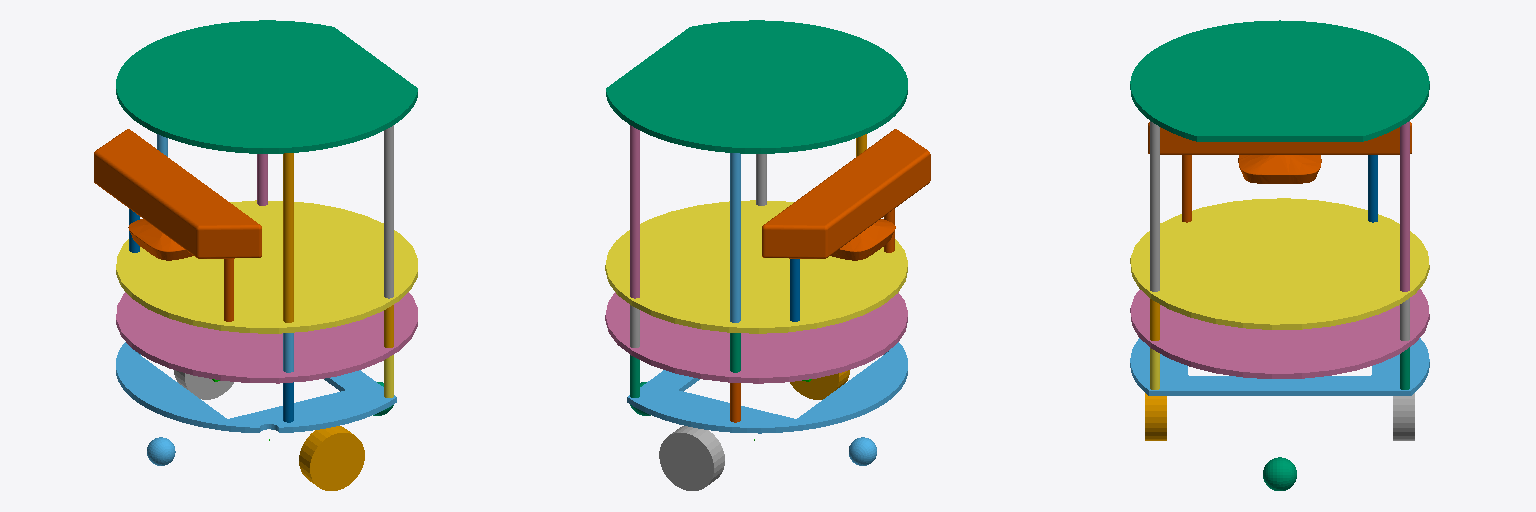
--- Render facts (derived) ---
3 views of the same robot in one strip: view 1: azimuth 30°, elevation 25°; view 2: azimuth 150°, elevation 25°; view 3: azimuth 270°, elevation 25° (orthographic).
Robot: turtlebot — 40 links, 39 joints (2 continuous, 37 fixed); root link base_footprint; default pose: every joint at zero.
Visible links, largest first — view 1: plate_3_link, plate_2_link, plate_1_link, camera_link, plate_0_link, right_wheel_link, standoff_8in_2_link, standoff_8in_1_link, left_wheel_link, rear_wheel_link, standoff_kinect_1_link, standoff_8in_0_link; view 2: plate_3_link, plate_2_link, plate_1_link, camera_link, plate_0_link, left_wheel_link, standoff_8in_3_link, standoff_8in_0_link, right_wheel_link, rear_wheel_link, standoff_kinect_0_link, standoff_8in_1_link; view 3: plate_3_link, plate_2_link, plate_1_link, plate_0_link, camera_link, standoff_8in_0_link, standoff_8in_1_link, left_wheel_link, right_wheel_link, front_wheel_link, standoff_kinect_0_link, standoff_kinect_1_link.
Boxes of the visible links, x1,y1,x2,y2 form: plate_3_link: (116,20,417,153); plate_2_link: (116,200,417,333); plate_1_link: (116,292,417,383); camera_link: (94,129,261,260); plate_0_link: (116,342,396,432); right_wheel_link: (299,426,364,490); standoff_8in_2_link: (283,153,293,322); standoff_8in_1_link: (384,125,393,298); left_wheel_link: (174,370,233,399); rear_wheel_link: (147,437,175,465); standoff_kinect_1_link: (224,259,233,321); standoff_8in_0_link: (257,154,267,205); plate_3_link: (606,20,907,153); plate_2_link: (605,200,907,333); plate_1_link: (605,292,907,383); camera_link: (762,129,930,260); plate_0_link: (627,342,907,433); left_wheel_link: (659,426,724,490); standoff_8in_3_link: (730,153,740,322); standoff_8in_0_link: (630,125,639,298); right_wheel_link: (790,370,849,399); rear_wheel_link: (849,437,876,465); standoff_kinect_0_link: (790,259,799,321); standoff_8in_1_link: (756,154,766,205); plate_3_link: (1130,20,1429,141); plate_2_link: (1130,198,1429,329); plate_1_link: (1130,289,1429,378); plate_0_link: (1130,338,1429,395); camera_link: (1148,122,1411,183); standoff_8in_0_link: (1400,121,1409,291); standoff_8in_1_link: (1150,121,1159,291); left_wheel_link: (1393,393,1414,440); right_wheel_link: (1145,393,1166,440); front_wheel_link: (1263,457,1296,490); standoff_kinect_0_link: (1368,155,1377,222); standoff_kinect_1_link: (1182,155,1191,222).
Size in the robot's own frame: 0.3147 by 0.3148 by 0.4097 metres.
23 mesh visuals loaded from 9 distinct referenced files (8 Collada DAE); not drawn: 1 (reference not matched to a file when rendering).

The robot description file, URDF, robot "turtlebot":
<?xml version="1.0" ?>
<!-- =================================================================================== -->
<!-- |    This document was autogenerated by xacro from create_circles_kinect.urdf.xacro | -->
<!-- |    EDITING THIS FILE BY HAND IS NOT RECOMMENDED                                 | -->
<!-- =================================================================================== -->
<!--
    - Base      : create
    - Stacks    : circles
    - 3d Sensor : kinect
-->
<robot name="turtlebot" xmlns:xacro="http://ros.org/wiki/xacro">
  <!-- 
    These properties must be observed by any machine
    that wants to be defined as a turtlebot. Refer
    to the REP for more details.
    
    http://www.ros.org/reps/rep-0119.html
   -->
  <!-- 
    These properties must be observed by any machine
    that wants to be defined as a turtlebot. Refer
    to the REP for more details.
    
    http://www.ros.org/reps/rep-0119.html
   -->
  <material name="Green">
    <color rgba="0.0 0.8 0.0 1.0"/>
  </material>
  <!-- base_footprint is a fictitious link(frame) that is on the ground right below base_link origin, navigation stack depends on this frame -->
  <link name="base_footprint">
    <visual>
      <origin rpy="0 0 0" xyz="0 0 0"/>
      <geometry>
        <box size="0.001 0.001 0.001"/>
      </geometry>
      <material name="Green"/>
    </visual>
    <collision>
      <origin rpy="0 0 0" xyz="0 0 0.017"/>
      <geometry>
        <box size="0.001 0.001 0.001"/>
      </geometry>
    </collision>
  </link>
  <link name="base_link">
    <inertial>
      <mass value="2"/>
      <origin xyz="0 0 0.0"/>
      <inertia ixx="0.01" ixy="0.0" ixz="0.0" iyy="0.01" iyz="0.0" izz="0.5"/>
    </inertial>
    <visual>
      <origin rpy="0 0 0" xyz=" 0 0 0.0308"/>
      <geometry>
        <mesh filename="package://create_description/meshes/create_body.dae"/>
      </geometry>
    </visual>
    <collision>
      <origin rpy="0 0 0" xyz="0.0 0.0 0.0308"/>
      <geometry>
        <cylinder length="0.0611632" radius="0.16495"/>
      </geometry>
    </collision>
  </link>
  <link name="wall_sensor_link">
    <inertial>
      <mass value="0.01"/>
      <origin xyz="0 0 0"/>
      <inertia ixx="0.001" ixy="0.0" ixz="0.0" iyy="0.001" iyz="0.0" izz="0.001"/>
    </inertial>
  </link>
  <link name="left_cliff_sensor_link">
    <inertial>
      <mass value="0.01"/>
      <origin xyz="0 0 0"/>
      <inertia ixx="0.001" ixy="0.0" ixz="0.0" iyy="0.001" iyz="0.0" izz="0.001"/>
    </inertial>
  </link>
  <link name="right_cliff_sensor_link">
    <inertial>
      <mass value="0.01"/>
      <origin xyz="0 0 0"/>
      <inertia ixx="0.001" ixy="0.0" ixz="0.0" iyy="0.001" iyz="0.0" izz="0.001"/>
    </inertial>
  </link>
  <link name="leftfront_cliff_sensor_link">
    <inertial>
      <mass value="0.01"/>
      <origin xyz="0 0 0"/>
      <inertia ixx="1.0" ixy="0.0" ixz="0.0" iyy="0.01" iyz="0.0" izz="0.01"/>
    </inertial>
  </link>
  <link name="rightfront_cliff_sensor_link">
    <inertial>
      <mass value="0.01"/>
      <origin xyz="0 0 0"/>
      <inertia ixx="0.001" ixy="0.0" ixz="0.0" iyy="0.001" iyz="0.0" izz="0.001"/>
    </inertial>
  </link>
  <joint name="base_footprint_joint" type="fixed">
    <origin rpy="0 0 0" xyz="0 0 0.017"/>
    <parent link="base_footprint"/>
    <child link="base_link"/>
  </joint>
  <joint name="base_wall_sensor_joint" type="fixed">
    <origin rpy="0 0 -1.0" xyz="0.09 -0.120 0.042"/>
    <parent link="base_link"/>
    <child link="wall_sensor_link"/>
  </joint>
  <joint name="base_left_cliff_sensor_joint" type="fixed">
    <origin rpy="0 1.57079 0" xyz="0.07 0.14 0.01"/>
    <parent link="base_link"/>
    <child link="left_cliff_sensor_link"/>
  </joint>
  <joint name="base_right_cliff_sensor_joint" type="fixed">
    <origin rpy="0 1.57079 0" xyz="0.07 -0.14 0.01"/>
    <parent link="base_link"/>
    <child link="right_cliff_sensor_link"/>
  </joint>
  <joint name="base_leftfront_cliff_sensor_joint" type="fixed">
    <origin rpy="0 1.57079 0" xyz="0.15 0.04 0.01"/>
    <parent link="base_link"/>
    <child link="leftfront_cliff_sensor_link"/>
  </joint>
  <joint name="base_rightfront_cliff_sensor_joint" type="fixed">
    <origin rpy="0 1.57079 0" xyz="0.15 -0.04 0.01"/>
    <parent link="base_link"/>
    <child link="rightfront_cliff_sensor_link"/>
  </joint>
  <link name="left_wheel_link">
    <inertial>
      <origin xyz="0 0 0"/>
      <mass value="0.01"/>
      <inertia ixx="0.001" ixy="0.0" ixz="0.0" iyy="0.001" iyz="0.0" izz="0.001"/>
    </inertial>
    <visual>
      <origin rpy="0 1.5707 1.5707" xyz="0 0 0"/>
      <geometry>
        <cylinder length="0.023" radius="0.033"/>
      </geometry>
    </visual>
    <collision>
      <origin rpy="0 1.5707 1.5707" xyz="0 0 0"/>
      <geometry>
        <cylinder length="0.023" radius="0.033"/>
      </geometry>
    </collision>
  </link>
  <joint name="left_wheel_joint" type="continuous">
    <origin rpy="0 0 0" xyz="0 0.13 0.015"/>
    <parent link="base_link"/>
    <child link="left_wheel_link"/>
    <axis xyz="0 1 0"/>
  </joint>
  <link name="right_wheel_link">
    <inertial>
      <origin xyz="0 0 0"/>
      <mass value="0.01"/>
      <inertia ixx="0.001" ixy="0.0" ixz="0.0" iyy="0.001" iyz="0.0" izz="0.001"/>
    </inertial>
    <visual>
      <origin rpy="0 1.5707 1.5707" xyz="0 0 0"/>
      <geometry>
        <cylinder length="0.023" radius="0.033"/>
      </geometry>
    </visual>
    <collision>
      <origin rpy="0 1.5707 1.5707" xyz="0 0 0"/>
      <geometry>
        <cylinder length="0.023" radius="0.033"/>
      </geometry>
    </collision>
  </link>
  <joint name="right_wheel_joint" type="continuous">
    <origin rpy="0 0 0" xyz="0 -0.13 0.015"/>
    <parent link="base_link"/>
    <child link="right_wheel_link"/>
    <axis xyz="0 1 0"/>
  </joint>
  <link name="rear_wheel_link">
    <inertial>
      <origin xyz="0 0 0"/>
      <mass value="0.001"/>
      <inertia ixx="0.0001" ixy="0.0" ixz="0.0" iyy="0.0001" iyz="0.0" izz="0.0001"/>
    </inertial>
    <visual>
      <origin rpy="0 1.5707 1.5707" xyz="0 0 0"/>
      <geometry>
        <sphere radius="0.015"/>
      </geometry>
    </visual>
    <collision>
      <origin rpy="0 1.5707 1.5707" xyz="0 0 0"/>
      <geometry>
        <sphere radius="0.015"/>
      </geometry>
    </collision>
  </link>
  <!-- fixed because there's no transmission -->
  <joint name="rear_castor_joint" type="fixed">
    <origin rpy="0 0 0" xyz="-0.13 0 0.0"/>
    <parent link="base_link"/>
    <child link="rear_wheel_link"/>
    <axis xyz="0 1 0"/>
  </joint>
  <link name="front_wheel_link">
    <inertial>
      <origin xyz="0 0 0"/>
      <mass value="0.01"/>
      <inertia ixx="0.001" ixy="0.0" ixz="0.0" iyy="0.001" iyz="0.0" izz="0.001"/>
    </inertial>
    <visual>
      <origin rpy="0 1.5707 1.5707" xyz="0 0 0"/>
      <geometry>
        <sphere radius="0.018"/>
      </geometry>
    </visual>
    <collision>
      <origin rpy="0 1.5707 1.5707" xyz="0 0 0"/>
      <geometry>
        <sphere radius="0.018"/>
      </geometry>
    </collision>
  </link>
  <!-- fixed because there's no transmission -->
  <joint name="front_castor_joint" type="fixed">
    <origin rpy="0 0 0" xyz="0.13 0 0.0"/>
    <parent link="base_link"/>
    <child link="front_wheel_link"/>
    <axis xyz="0 1 0"/>
  </joint>
  <joint name="gyro_joint" type="fixed">
    <axis xyz="0 1 0"/>
    <origin rpy="0 0 0" xyz="0 0 0.04"/>
    <parent link="base_link"/>
    <child link="gyro_link"/>
  </joint>
  <link name="gyro_link">
    <inertial>
      <mass value="0.001"/>
      <origin rpy="0 0 0" xyz="0 0 0"/>
      <inertia ixx="0.0001" ixy="0" ixz="0" iyy="0.000001" iyz="0" izz="0.0001"/>
    </inertial>
  </link>
  <joint name="laser_joint" type="fixed">
    <origin rpy="0 0 0" xyz="-0.065 0 0.075"/>
    <parent link="base_link"/>
    <child link="laser"/>
  </joint>
  <link name="laser">
    <visual>
      <geometry>
        <box size="0.02 0.035 0.002"/>
      </geometry>
      <material name="Green"/>
    </visual>
    <inertial>
      <mass value="0.001"/>
      <origin xyz="0 0 0"/>
      <inertia ixx="0.0001" ixy="0.0" ixz="0.0" iyy="0.0001" iyz="0.0" izz="0.0001"/>
    </inertial>
  </link>
  <gazebo>
    <plugin filename="libgazebo_ros_create.so" name="create_controller">
      <alwaysOn>true</alwaysOn>
      <node_namespace>turtlebot_node</node_namespace>
      <left_wheel_joint>left_wheel_joint</left_wheel_joint>
      <right_wheel_joint>right_wheel_joint</right_wheel_joint>
      <front_castor_joint>front_castor_joint</front_castor_joint>
      <rear_castor_joint>rear_castor_joint</rear_castor_joint>
      <wheel_separation>.260</wheel_separation>
      <wheel_diameter>0.066</wheel_diameter>
      <base_geom>base_footprint_collision_base_link</base_geom>
      <updateRate>40</updateRate>
      <torque>1.0</torque>
    </plugin>
  </gazebo>
  <gazebo reference="left_wheel_link">
    <mu1>1.0</mu1>
    <mu2>1.0</mu2>
    <kp>1000000.0</kp>
    <kd>100.0</kd>
    <minDepth>0.001</minDepth>
    <maxVel>1.0</maxVel>
  </gazebo>
  <gazebo reference="right_wheel_link">
    <mu1>1.0</mu1>
    <mu2>1.0</mu2>
    <kp>1000000.0</kp>
    <kd>100.0</kd>
    <minDepth>0.001</minDepth>
    <maxVel>1.0</maxVel>
  </gazebo>
  <gazebo reference="rear_wheel_link">
    <mu1>0.0</mu1>
    <mu2>0.0</mu2>
    <kp>1000000.0</kp>
    <kd>100.0</kd>
    <minDepth>0.001</minDepth>
    <maxVel>1.0</maxVel>
  </gazebo>
  <gazebo reference="front_wheel_link">
    <mu1>0.0</mu1>
    <mu2>0.0</mu2>
    <kp>1000000.0</kp>
    <kd>100.0</kd>
    <minDepth>0.001</minDepth>
    <maxVel>1.0</maxVel>
  </gazebo>
  <gazebo reference="wall_sensor_link">
    <sensor name="wall_sensor" type="ray">
      <always_on>true</always_on>
      <update_rate>20.0</update_rate>
      <pose>0 0 0 0 0 0</pose>
      <visualize>false</visualize>
      <ray>
        <scan>
          <horizontal>
            <samples>1</samples>
            <resolution>1</resolution>
            <min_angle>0</min_angle>
            <max_angle>0</max_angle>
          </horizontal>
        </scan>
        <range>
          <min>0.0160</min>
          <max>0.04</max>
          <resolution>0.1</resolution>
        </range>
      </ray>
    </sensor>
  </gazebo>
  <gazebo reference="left_cliff_sensor_link">
    <sensor name="left_cliff_sensor" type="ray">
      <always_on>true</always_on>
      <update_rate>20.0</update_rate>
      <pose>0 0 0 0 0 0</pose>
      <visualize>false</visualize>
      <ray>
        <scan>
          <horizontal>
            <samples>1</samples>
            <resolution>1</resolution>
            <min_angle>0</min_angle>
            <max_angle>0</max_angle>
          </horizontal>
        </scan>
        <range>
          <min>0.01</min>
          <max>0.04</max>
          <resolution>0.1</resolution>
        </range>
      </ray>
    </sensor>
  </gazebo>
  <gazebo reference="right_cliff_sensor_link">
    <sensor name="right_cliff_sensor" type="ray">
      <always_on>true</always_on>
      <update_rate>20.0</update_rate>
      <pose>0 0 0 0 0 0</pose>
      <visualize>false</visualize>
      <ray>
        <scan>
          <horizontal>
            <samples>1</samples>
            <resolution>1</resolution>
            <min_angle>0</min_angle>
            <max_angle>0</max_angle>
          </horizontal>
        </scan>
        <range>
          <min>0.01</min>
          <max>0.04</max>
          <resolution>0.1</resolution>
        </range>
      </ray>
    </sensor>
  </gazebo>
  <gazebo reference="leftfront_cliff_sensor_link">
    <sensor name="leftfront_cliff_sensor" type="ray">
      <always_on>true</always_on>
      <update_rate>20.0</update_rate>
      <pose>0 0 0 0 0 0</pose>
      <visualize>false</visualize>
      <ray>
        <scan>
          <horizontal>
            <samples>1</samples>
            <resolution>1</resolution>
            <min_angle>0</min_angle>
            <max_angle>0</max_angle>
          </horizontal>
        </scan>
        <range>
          <min>0.01</min>
          <max>0.04</max>
          <resolution>0.1</resolution>
        </range>
      </ray>
    </sensor>
  </gazebo>
  <gazebo reference="rightfront_cliff_sensor_link">
    <sensor name="rightfront_cliff_sensor" type="ray">
      <always_on>true</always_on>
      <update_rate>20.0</update_rate>
      <pose>0 0 0 0 0 0</pose>
      <visualize>false</visualize>
      <ray>
        <scan>
          <horizontal>
            <samples>1</samples>
            <resolution>1</resolution>
            <min_angle>0</min_angle>
            <max_angle>0</max_angle>
          </horizontal>
        </scan>
        <range>
          <min>0.01</min>
          <max>0.04</max>
          <resolution>0.1</resolution>
        </range>
      </ray>
    </sensor>
  </gazebo>
  <gazebo>
    <plugin filename="libgazebo_ros_imu.so" name="imu_controller">
      <alwaysOn>true</alwaysOn>
      <updateRate>30</updateRate>
      <bodyName>gyro_link</bodyName>
      <topicName>imu/data</topicName>
      <serviceName>imu/is_calibrated</serviceName>
      <gaussianNoise>2.89e-06</gaussianNoise>
      <xyzOffsets>0 0 0</xyzOffsets>
      <rpyOffsets>0 0 0</rpyOffsets>
    </plugin>
  </gazebo>
  <joint name="spacer_0_joint" type="fixed">
    <origin rpy="0 0 0" xyz="-0.00254 0.1114679 0.062992"/>
    <parent link="base_link"/>
    <child link="spacer_0_link"/>
  </joint>
  <link name="spacer_0_link">
    <inertial>
      <mass value="0.001"/>
      <origin xyz="0 0 0"/>
      <inertia ixx="0.0001" ixy="0.0" ixz="0.0" iyy="0.0001" iyz="0.0" izz="0.0001"/>
    </inertial>
    <visual>
      <origin rpy="0 0 0" xyz=" 0 0 0 "/>
      <geometry>
        <mesh filename="package://turtlebot_description/meshes/stacks/circles/68-02403-125_Spacer.dae"/>
      </geometry>
    </visual>
    <collision>
      <origin rpy="0 0 0" xyz="0.0 0.0 0.0"/>
      <geometry>
        <cylinder length="0.003175" radius=".0127"/>
      </geometry>
    </collision>
  </link>
  <joint name="spacer_1_joint" type="fixed">
    <origin rpy="0 0 0" xyz="-0.00254 -0.1114679 0.062992"/>
    <parent link="base_link"/>
    <child link="spacer_1_link"/>
  </joint>
  <link name="spacer_1_link">
    <inertial>
      <mass value="0.001"/>
      <origin xyz="0 0 0"/>
      <inertia ixx="0.0001" ixy="0.0" ixz="0.0" iyy="0.0001" iyz="0.0" izz="0.0001"/>
    </inertial>
    <visual>
      <origin rpy="0 0 0" xyz=" 0 0 0 "/>
      <geometry>
        <mesh filename="package://turtlebot_description/meshes/stacks/circles/68-02403-125_Spacer.dae"/>
      </geometry>
    </visual>
    <collision>
      <origin rpy="0 0 0" xyz="0.0 0.0 0.0"/>
      <geometry>
        <cylinder length="0.003175" radius=".0127"/>
      </geometry>
    </collision>
  </link>
  <joint name="spacer_2_joint" type="fixed">
    <origin rpy="0 0 0" xyz="-0.07239 -0.1114679 0.062992"/>
    <parent link="base_link"/>
    <child link="spacer_2_link"/>
  </joint>
  <link name="spacer_2_link">
    <inertial>
      <mass value="0.001"/>
      <origin xyz="0 0 0"/>
      <inertia ixx="0.0001" ixy="0.0" ixz="0.0" iyy="0.0001" iyz="0.0" izz="0.0001"/>
    </inertial>
    <visual>
      <origin rpy="0 0 0" xyz=" 0 0 0 "/>
      <geometry>
        <mesh filename="package://turtlebot_description/meshes/stacks/circles/68-02403-125_Spacer.dae"/>
      </geometry>
    </visual>
    <collision>
      <origin rpy="0 0 0" xyz="0.0 0.0 0.0"/>
      <geometry>
        <cylinder length="0.003175" radius=".0127"/>
      </geometry>
    </collision>
  </link>
  <joint name="spacer_3_joint" type="fixed">
    <origin rpy="0 0 0" xyz="-0.07239 0.1114679 0.062992"/>
    <parent link="base_link"/>
    <child link="spacer_3_link"/>
  </joint>
  <link name="spacer_3_link">
    <inertial>
      <mass value="0.001"/>
      <origin xyz="0 0 0"/>
      <inertia ixx="0.0001" ixy="0.0" ixz="0.0" iyy="0.0001" iyz="0.0" izz="0.0001"/>
    </inertial>
    <visual>
      <origin rpy="0 0 0" xyz=" 0 0 0 "/>
      <geometry>
        <mesh filename="package://turtlebot_description/meshes/stacks/circles/68-02403-125_Spacer.dae"/>
      </geometry>
    </visual>
    <collision>
      <origin rpy="0 0 0" xyz="0.0 0.0 0.0"/>
      <geometry>
        <cylinder length="0.003175" radius=".0127"/>
      </geometry>
    </collision>
  </link>
  <joint name="plate_0_joint" type="fixed">
    <origin rpy="0 0 0" xyz="-0.04334 0  0.06775704"/>
    <parent link="base_link"/>
    <child link="plate_0_link"/>
  </joint>
  <link name="plate_0_link">
    <inertial>
      <mass value="0.01"/>
      <origin xyz="0 0 0"/>
      <inertia ixx="0.01" ixy="0.0" ixz="0.0" iyy="0.01" iyz="0.0" izz="0.01"/>
    </inertial>
    <visual>
      <origin rpy="0 0 0" xyz=" 0 0 0 "/>
      <geometry>
        <mesh filename="package://turtlebot_description/meshes/stacks/circles/plate_0_logo.dae"/>
      </geometry>
    </visual>
    <collision>
      <origin rpy="0 0 0" xyz="0.0 0.0 0.0"/>
      <geometry>
        <box size="0.233502 0.314845 0.006401"/>
      </geometry>
    </collision>
  </link>
  <joint name="standoff_2in_0_joint" type="fixed">
    <origin rpy="0 0 0" xyz="0.0676402 0.1314196 0.0709803"/>
    <parent link="base_link"/>
    <child link="standoff_2in_0_link"/>
  </joint>
  <link name="standoff_2in_0_link">
    <inertial>
      <mass value="0.001"/>
      <origin xyz="0 0 0"/>
      <inertia ixx="0.0001" ixy="0.0" ixz="0.0" iyy="0.0001" iyz="0.0" izz="0.0001"/>
    </inertial>
    <visual>
      <origin rpy="0 0 0" xyz=" 0 0 0 "/>
      <geometry>
        <mesh filename="package://turtlebot_description/meshes/stacks/circles/68-04552-2000-RA_Turtlebot_M-F_Standoff.dae"/>
      </geometry>
    </visual>
    <collision>
      <origin rpy="0 0 0" xyz="0.0 0.0 0.0"/>
      <geometry>
        <cylinder length="0.0635" radius="0.0381"/>
      </geometry>
    </collision>
  </link>
  <joint name="standoff_2in_1_joint" type="fixed">
    <origin rpy="0 0 0" xyz="0.0676402 -0.1314196 0.0709803"/>
    <parent link="base_link"/>
    <child link="standoff_2in_1_link"/>
  </joint>
  <link name="standoff_2in_1_link">
    <inertial>
      <mass value="0.001"/>
      <origin xyz="0 0 0"/>
      <inertia ixx="0.0001" ixy="0.0" ixz="0.0" iyy="0.0001" iyz="0.0" izz="0.0001"/>
    </inertial>
    <visual>
      <origin rpy="0 0 0" xyz=" 0 0 0 "/>
      <geometry>
        <mesh filename="package://turtlebot_description/meshes/stacks/circles/68-04552-2000-RA_Turtlebot_M-F_Standoff.dae"/>
      </geometry>
    </visual>
    <collision>
      <origin rpy="0 0 0" xyz="0.0 0.0 0.0"/>
      <geometry>
        <cylinder length="0.0635" radius="0.0381"/>
      </geometry>
    </collision>
  </link>
  <joint name="standoff_2in_2_joint" type="fixed">
    <origin rpy="0 0 0" xyz="-0.052832 -0.1314196 0.0709803"/>
    <parent link="base_link"/>
    <child link="standoff_2in_2_link"/>
  </joint>
  <link name="standoff_2in_2_link">
    <inertial>
      <mass value="0.001"/>
      <origin xyz="0 0 0"/>
      <inertia ixx="0.0001" ixy="0.0" ixz="0.0" iyy="0.0001" iyz="0.0" izz="0.0001"/>
    </inertial>
    <visual>
      <origin rpy="0 0 0" xyz=" 0 0 0 "/>
      <geometry>
        <mesh filename="package://turtlebot_description/meshes/stacks/circles/68-04552-2000-RA_Turtlebot_M-F_Standoff.dae"/>
      </geometry>
    </visual>
    <collision>
      <origin rpy="0 0 0" xyz="0.0 0.0 0.0"/>
      <geometry>
        <cylinder length="0.0635" radius="0.0381"/>
      </geometry>
    </collision>
  </link>
  <joint name="standoff_2in_3_joint" type="fixed">
    <origin rpy="0 0 0" xyz="-0.052832 0.1314196 0.0709803"/>
    <parent link="base_link"/>
    <child link="standoff_2in_3_link"/>
  </joint>
  <link name="standoff_2in_3_link">
    <inertial>
      <mass value="0.001"/>
      <origin xyz="0 0 0"/>
      <inertia ixx="0.0001" ixy="0.0" ixz="0.0" iyy="0.0001" iyz="0.0" izz="0.0001"/>
    </inertial>
    <visual>
      <origin rpy="0 0 0" xyz=" 0 0 0 "/>
      <geometry>
        <mesh filename="package://turtlebot_description/meshes/stacks/circles/68-04552-2000-RA_Turtlebot_M-F_Standoff.dae"/>
      </geometry>
    </visual>
    <collision>
      <origin rpy="0 0 0" xyz="0.0 0.0 0.0"/>
      <geometry>
        <cylinder length="0.0635" radius="0.0381"/>
      </geometry>
    </collision>
  </link>
  <joint name="plate_1_joint" type="fixed">
    <origin rpy="0 0 0" xyz="0.04068 0 0.05715"/>
    <parent link="plate_0_link"/>
    <child link="plate_1_link"/>
  </joint>
  <link name="plate_1_link">
    <inertial>
      <mass value="0.1"/>
      <origin xyz="0 0 0"/>
      <inertia ixx="0.01" ixy="0.0" ixz="0.0" iyy="0.01" iyz="0.0" izz="0.01"/>
    </inertial>
    <visual>
      <origin rpy="0 0 0" xyz=" 0 0 0 "/>
      <geometry>
        <mesh filename="package://turtlebot_description/meshes/stacks/circles/plate_1_logo.dae"/>
      </geometry>
    </visual>
    <collision>
      <origin rpy="0 0 0" xyz="0.0 0.0 0.0"/>
      <geometry>
        <box size="0.314856 0.314856 0.006401"/>
      </geometry>
    </collision>
  </link>
  <joint name="standoff_2in_4_joint" type="fixed">
    <origin rpy="0 0 0" xyz="0 0 0.05715"/>
    <parent link="standoff_2in_0_link"/>
    <child link="standoff_2in_4_link"/>
  </joint>
  <link name="standoff_2in_4_link">
    <inertial>
      <mass value="0.001"/>
      <origin xyz="0 0 0"/>
      <inertia ixx="0.0001" ixy="0.0" ixz="0.0" iyy="0.0001" iyz="0.0" izz="0.0001"/>
    </inertial>
    <visual>
      <origin rpy="0 0 0" xyz=" 0 0 0 "/>
      <geometry>
        <mesh filename="package://turtlebot_description/meshes/stacks/circles/68-04552-2000-RA_Turtlebot_M-F_Standoff.dae"/>
      </geometry>
    </visual>
    <collision>
      <origin rpy="0 0 0" xyz="0.0 0.0 0.0"/>
      <geometry>
        <cylinder length="0.0635" radius="0.0381"/>
      </geometry>
    </collision>
  </link>
  <joint name="standoff_2in_5_joint" type="fixed">
    <origin rpy="0 0 0" xyz="0 0 0.05715"/>
    <parent link="standoff_2in_1_link"/>
    <child link="standoff_2in_5_link"/>
  </joint>
  <link name="standoff_2in_5_link">
    <inertial>
      <mass value="0.001"/>
      <origin xyz="0 0 0"/>
      <inertia ixx="0.0001" ixy="0.0" ixz="0.0" iyy="0.0001" iyz="0.0" izz="0.0001"/>
    </inertial>
    <visual>
      <origin rpy="0 0 0" xyz=" 0 0 0 "/>
      <geometry>
        <mesh filename="package://turtlebot_description/meshes/stacks/circles/68-04552-2000-RA_Turtlebot_M-F_Standoff.dae"/>
      </geometry>
    </visual>
    <collision>
      <origin rpy="0 0 0" xyz="0.0 0.0 0.0"/>
      <geometry>
        <cylinder length="0.0635" radius="0.0381"/>
      </geometry>
    </collision>
  </link>
  <joint name="standoff_2in_6_joint" type="fixed">
    <origin rpy="0 0 0" xyz="0 0 0.05715"/>
    <parent link="standoff_2in_2_link"/>
    <child link="standoff_2in_6_link"/>
  </joint>
  <link name="standoff_2in_6_link">
    <inertial>
      <mass value="0.001"/>
      <origin xyz="0 0 0"/>
      <inertia ixx="0.0001" ixy="0.0" ixz="0.0" iyy="0.0001" iyz="0.0" izz="0.0001"/>
    </inertial>
    <visual>
      <origin rpy="0 0 0" xyz=" 0 0 0 "/>
      <geometry>
        <mesh filename="package://turtlebot_description/meshes/stacks/circles/68-04552-2000-RA_Turtlebot_M-F_Standoff.dae"/>
      </geometry>
    </visual>
    <collision>
      <origin rpy="0 0 0" xyz="0.0 0.0 0.0"/>
      <geometry>
        <cylinder length="0.0635" radius="0.0381"/>
      </geometry>
    </collision>
  </link>
  <joint name="standoff_2in_7_joint" type="fixed">
    <origin rpy="0 0 0" xyz="0 0 0.05715"/>
    <parent link="standoff_2in_3_link"/>
    <child link="standoff_2in_7_link"/>
  </joint>
  <link name="standoff_2in_7_link">
    <inertial>
      <mass value="0.001"/>
      <origin xyz="0 0 0"/>
      <inertia ixx="0.0001" ixy="0.0" ixz="0.0" iyy="0.0001" iyz="0.0" izz="0.0001"/>
    </inertial>
    <visual>
      <origin rpy="0 0 0" xyz=" 0 0 0 "/>
      <geometry>
        <mesh filename="package://turtlebot_description/meshes/stacks/circles/68-04552-2000-RA_Turtlebot_M-F_Standoff.dae"/>
      </geometry>
    </visual>
    <collision>
      <origin rpy="0 0 0" xyz="0.0 0.0 0.0"/>
      <geometry>
        <cylinder length="0.0635" radius="0.0381"/>
      </geometry>
    </collision>
  </link>
  <joint name="plate_2_joint" type="fixed">
    <origin rpy="0 0 0" xyz="0 0 0.0572008"/>
    <parent link="plate_1_link"/>
    <child link="plate_2_link"/>
  </joint>
  <link name="plate_2_link">
    <inertial>
      <mass value="0.01"/>
      <origin xyz="0 0 0"/>
      <inertia ixx="0.001" ixy="0.0" ixz="0.0" iyy="0.001" iyz="0.0" izz="0.001"/>
    </inertial>
    <visual>
      <origin rpy="0 0 0" xyz=" 0 0 0 "/>
      <geometry>
        <mesh filename="package://turtlebot_description/meshes/stacks/circles/plate_1_logo.dae"/>
      </geometry>
    </visual>
    <collision>
      <origin rpy="0 0 0" xyz="0.0 0.0 0.0"/>
      <geometry>
        <box size="0.314856 0.314856 0.006401"/>
      </geometry>
    </collision>
  </link>
  <joint name="standoff_kinect_0_joint" type="fixed">
    <origin rpy="0 0 0" xyz="-0.1024382 0.098 0.0032004"/>
    <parent link="plate_2_link"/>
    <child link="standoff_kinect_0_link"/>
  </joint>
  <link name="standoff_kinect_0_link">
    <inertial>
      <mass value="0.001"/>
      <origin xyz="0 0 0"/>
      <inertia ixx="0.0001" ixy="0.0" ixz="0.0" iyy="0.0001" iyz="0.0" izz="0.0001"/>
    </inertial>
    <visual>
      <origin rpy="0 0 0" xyz=" 0 0 0 "/>
      <geometry>
        <mesh filename="package://turtlebot_description/meshes/stacks/circles/68-04556-RA_Kinect_Standoff_Assy.dae"/>
      </geometry>
    </visual>
    <collision>
      <origin rpy="0 0 0" xyz="0.0 0.0 0.0"/>
      <geometry>
        <cylinder length="0.008585" radius="0.001111"/>
      </geometry>
    </collision>
  </link>
  <joint name="standoff_kinect_1_joint" type="fixed">
    <origin rpy="0 0 0" xyz="-0.1024382 -0.098 0.0032004"/>
    <parent link="plate_2_link"/>
    <child link="standoff_kinect_1_link"/>
  </joint>
  <link name="standoff_kinect_1_link">
    <inertial>
      <mass value="0.001"/>
      <origin xyz="0 0 0"/>
      <inertia ixx="0.0001" ixy="0.0" ixz="0.0" iyy="0.0001" iyz="0.0" izz="0.0001"/>
    </inertial>
    <visual>
      <origin rpy="0 0 0" xyz=" 0 0 0 "/>
      <geometry>
        <mesh filename="package://turtlebot_description/meshes/stacks/circles/68-04556-RA_Kinect_Standoff_Assy.dae"/>
      </geometry>
    </visual>
    <collision>
      <origin rpy="0 0 0" xyz="0.0 0.0 0.0"/>
      <geometry>
        <cylinder length="0.008585" radius="0.001111"/>
      </geometry>
    </collision>
  </link>
  <joint name="standoff_8in_0_joint" type="fixed">
    <origin rpy="0 0 0" xyz="0 0 0.05715"/>
    <parent link="standoff_2in_4_link"/>
    <child link="standoff_8in_0_link"/>
  </joint>
  <link name="standoff_8in_0_link">
    <inertial>
      <mass value="0.001"/>
      <origin xyz="0 0 0"/>
      <inertia ixx="0.0001" ixy="0.0" ixz="0.0" iyy="0.0001" iyz="0.0" izz="0.0001"/>
    </inertial>
    <visual>
      <origin rpy="0 0 0" xyz=" 0 0 0 "/>
      <geometry>
        <mesh filename="package://turtlebot_description/meshes/stacks/circles/68-02421-8000-RA_Turtlebot_F-F_Standoff.dae"/>
      </geometry>
    </visual>
    <collision>
      <origin rpy="0 0 0" xyz="0.0 0.0 0.0"/>
      <geometry>
        <cylinder length="0.2032" radius="0.011113"/>
      </geometry>
    </collision>
  </link>
  <joint name="standoff_8in_1_joint" type="fixed">
    <origin rpy="0 0 0" xyz="0 0 0.05715"/>
    <parent link="standoff_2in_5_link"/>
    <child link="standoff_8in_1_link"/>
  </joint>
  <link name="standoff_8in_1_link">
    <inertial>
      <mass value="0.001"/>
      <origin xyz="0 0 0"/>
      <inertia ixx="0.0001" ixy="0.0" ixz="0.0" iyy="0.0001" iyz="0.0" izz="0.0001"/>
    </inertial>
    <visual>
      <origin rpy="0 0 0" xyz=" 0 0 0 "/>
      <geometry>
        <mesh filename="package://turtlebot_description/meshes/stacks/circles/68-02421-8000-RA_Turtlebot_F-F_Standoff.dae"/>
      </geometry>
    </visual>
    <collision>
      <origin rpy="0 0 0" xyz="0.0 0.0 0.0"/>
      <geometry>
        <cylinder length="0.2032" radius="0.011113"/>
      </geometry>
    </collision>
  </link>
  <joint name="standoff_8in_2_joint" type="fixed">
    <origin rpy="0 0 0" xyz="0 0 0.05715"/>
    <parent link="standoff_2in_6_link"/>
    <child link="standoff_8in_2_link"/>
  </joint>
  <link name="standoff_8in_2_link">
    <inertial>
      <mass value="0.001"/>
      <origin xyz="0 0 0"/>
      <inertia ixx="0.0001" ixy="0.0" ixz="0.0" iyy="0.0001" iyz="0.0" izz="0.0001"/>
    </inertial>
    <visual>
      <origin rpy="0 0 0" xyz=" 0 0 0 "/>
      <geometry>
        <mesh filename="package://turtlebot_description/meshes/stacks/circles/68-02421-8000-RA_Turtlebot_F-F_Standoff.dae"/>
      </geometry>
    </visual>
    <collision>
      <origin rpy="0 0 0" xyz="0.0 0.0 0.0"/>
      <geometry>
        <cylinder length="0.2032" radius="0.011113"/>
      </geometry>
    </collision>
  </link>
  <joint name="standoff_8in_3_joint" type="fixed">
    <origin rpy="0 0 0" xyz="0 0 0.05715"/>
    <parent link="standoff_2in_7_link"/>
    <child link="standoff_8in_3_link"/>
  </joint>
  <link name="standoff_8in_3_link">
    <inertial>
      <mass value="0.001"/>
      <origin xyz="0 0 0"/>
      <inertia ixx="0.0001" ixy="0.0" ixz="0.0" iyy="0.0001" iyz="0.0" izz="0.0001"/>
    </inertial>
    <visual>
      <origin rpy="0 0 0" xyz=" 0 0 0 "/>
      <geometry>
        <mesh filename="package://turtlebot_description/meshes/stacks/circles/68-02421-8000-RA_Turtlebot_F-F_Standoff.dae"/>
      </geometry>
    </visual>
    <collision>
      <origin rpy="0 0 0" xyz="0.0 0.0 0.0"/>
      <geometry>
        <cylinder length="0.2032" radius="0.011113"/>
      </geometry>
    </collision>
  </link>
  <joint name="plate_3_joint" type="fixed">
    <origin rpy="0 0 0" xyz="-0.01316 0 0.2063496"/>
    <parent link="plate_2_link"/>
    <child link="plate_3_link"/>
  </joint>
  <link name="plate_3_link">
    <inertial>
      <mass value="0.01"/>
      <origin xyz="0 0 0"/>
      <inertia ixx="0.0001" ixy="0.0" ixz="0.0" iyy="0.0001" iyz="0.0" izz="0.0001"/>
    </inertial>
    <visual>
      <origin rpy="0 0 0" xyz=" 0 0 0 "/>
      <geometry>
        <mesh filename="package://turtlebot_description/meshes/stacks/circles/plate_2_logo.dae"/>
      </geometry>
    </visual>
    <collision>
      <origin rpy="0 0 0" xyz="0.0 0.0 0.0"/>
      <geometry>
        <box size="0.288 0.315 0.006401"/>
      </geometry>
    </collision>
  </link>
  <joint name="camera_rgb_joint" type="fixed">
    <origin rpy="0 0 0" xyz="-0.087 -0.0125 0.287"/>
    <parent link="base_link"/>
    <child link="camera_rgb_frame"/>
  </joint>
  <link name="camera_rgb_frame"/>
  <joint name="camera_rgb_optical_joint" type="fixed">
    <origin rpy="-1.57079632679 0 -1.57079632679" xyz="0 0 0"/>
    <parent link="camera_rgb_frame"/>
    <child link="camera_rgb_optical_frame"/>
  </joint>
  <link name="camera_rgb_optical_frame"/>
  <joint name="camera_joint" type="fixed">
    <origin rpy="0 0 0" xyz="-0.031 0.0125 -0.016"/>
    <parent link="camera_rgb_frame"/>
    <child link="camera_link"/>
  </joint>
  <link name="camera_link">
    <visual>
      <origin rpy="0 0 1.57079632679" xyz="0 0 0"/>
      <geometry>
        <mesh filename="package://turtlebot_description/meshes/sensors/kinect.dae"/>
      </geometry>
    </visual>
    <collision>
      <origin rpy="0 0 0" xyz="0.0 0.0 0.0"/>
      <geometry>
        <box size="0.07271 0.27794 0.073"/>
      </geometry>
    </collision>
    <inertial>
      <mass value="0.564"/>
      <origin xyz="0 0 0"/>
      <inertia ixx="0.003881243" ixy="0.0" ixz="0.0" iyy="0.000498940" iyz="0.0" izz="0.003879257"/>
    </inertial>
  </link>
  <!-- The fixed joints & links below are usually published by static_transformers launched by the OpenNi launch 
         files. However, for Gazebo simulation we need them, so we add them here.
         (Hence, don't publish them additionally!) -->
  <joint name="camera_depth_joint" type="fixed">
    <origin rpy="0 0 0" xyz="0 0.025 0"/>
    <parent link="camera_rgb_frame"/>
    <child link="camera_depth_frame"/>
  </joint>
  <link name="camera_depth_frame"/>
  <joint name="camera_depth_optical_joint" type="fixed">
    <origin rpy="-1.57079632679 0 -1.57079632679" xyz="0 0 0"/>
    <parent link="camera_depth_frame"/>
    <child link="camera_depth_optical_frame"/>
  </joint>
  <link name="camera_depth_optical_frame"/>
  <gazebo reference="camera_link">
    <sensor name="camera" type="depth">
      <always_on>true</always_on>
      <update_rate>20.0</update_rate>
      <camera>
        <horizontal_fov>1.0471975512</horizontal_fov>
        <image>
          <format>B8G8R8</format>
          <width>640</width>
          <height>480</height>
        </image>
        <clip>
          <near>0.05</near>
          <far>8.0</far>
        </clip>
      </camera>
      <plugin filename="libgazebo_ros_openni_kinect.so" name="kinect_camera_controller">
        <cameraName>camera</cameraName>
        <alwaysOn>true</alwaysOn>
        <updateRate>10</updateRate>
        <imageTopicName>rgb/image_raw</imageTopicName>
        <depthImageTopicName>depth/image_raw</depthImageTopicName>
        <pointCloudTopicName>depth/points</pointCloudTopicName>
        <cameraInfoTopicName>rgb/camera_info</cameraInfoTopicName>
        <depthImageCameraInfoTopicName>depth/camera_info</depthImageCameraInfoTopicName>
        <frameName>camera_depth_optical_frame</frameName>
        <baseline>0.1</baseline>
        <distortion_k1>0.0</distortion_k1>
        <distortion_k2>0.0</distortion_k2>
        <distortion_k3>0.0</distortion_k3>
        <distortion_t1>0.0</distortion_t1>
        <distortion_t2>0.0</distortion_t2>
        <pointCloudCutoff>0.4</pointCloudCutoff>
      </plugin>
    </sensor>
  </gazebo>
</robot>
